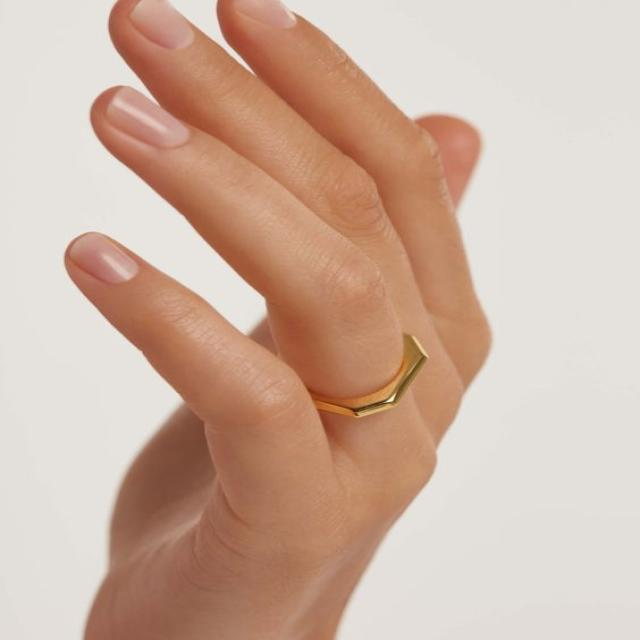Fingernail: (107, 87, 191, 148), (70, 233, 138, 284)
